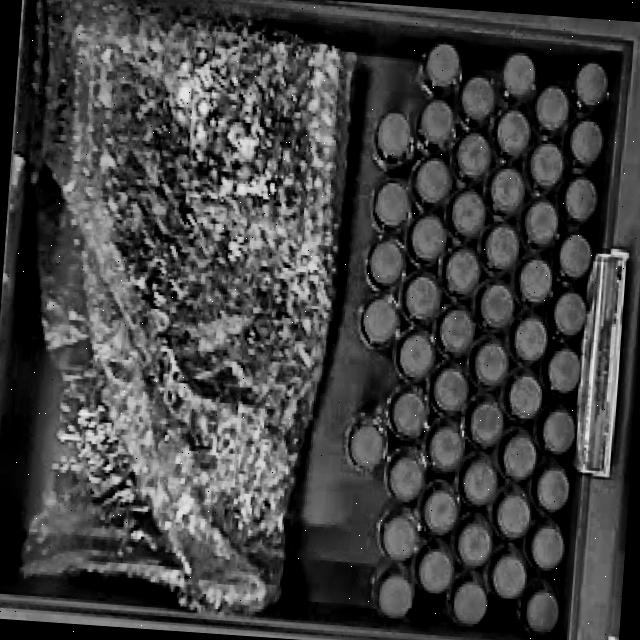vial: (424, 43, 461, 90), (361, 298, 398, 345), (427, 424, 463, 472), (414, 158, 450, 205), (418, 99, 453, 147), (462, 458, 497, 506), (438, 309, 474, 355), (348, 422, 384, 468), (392, 389, 425, 439), (445, 248, 480, 295), (399, 332, 434, 379), (376, 113, 411, 160), (368, 240, 403, 287), (388, 455, 423, 502), (382, 513, 417, 560), (501, 51, 535, 99), (496, 109, 530, 157), (404, 274, 440, 319), (491, 553, 527, 598), (507, 373, 542, 419), (479, 282, 514, 328), (431, 366, 466, 412), (569, 120, 603, 167), (456, 132, 490, 179), (450, 190, 484, 237), (375, 181, 409, 228), (535, 465, 569, 512), (530, 524, 564, 571), (502, 433, 536, 480), (457, 520, 491, 567), (379, 572, 413, 619), (524, 199, 557, 247), (424, 487, 457, 535), (490, 168, 525, 213), (496, 493, 531, 538), (563, 176, 597, 222), (530, 142, 564, 188), (513, 316, 547, 362), (484, 224, 518, 270), (410, 215, 444, 261), (541, 408, 575, 454), (469, 400, 503, 446), (417, 547, 451, 593), (461, 75, 494, 122), (574, 62, 608, 107), (552, 291, 586, 336), (473, 341, 507, 386), (453, 580, 487, 625), (535, 85, 568, 131), (547, 347, 579, 394), (526, 589, 559, 634), (519, 258, 552, 302), (559, 233, 591, 278)
